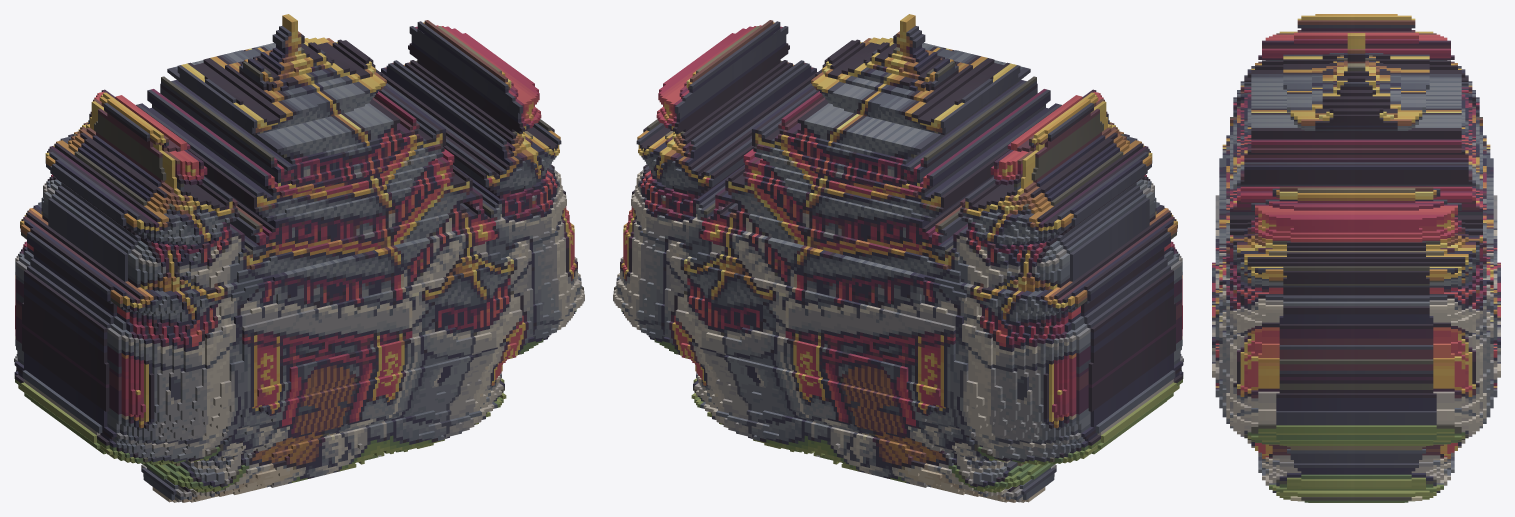
The model's file is pixel_town_center.glb.
3 views of the same model, side by side, from view 1: azimuth 30°, elevation 25°; view 2: azimuth 150°, elevation 25°; view 3: azimuth 270°, elevation 25° (orthographic). The views are drawn at different scales.
Parts seen in each view (by area): view 1: VoxelObject; view 2: VoxelObject; view 3: VoxelObject.
Boxes of the visible parts, x1,y1,x2,y2 form: VoxelObject: [14, 14, 584, 502]; VoxelObject: [613, 14, 1183, 502]; VoxelObject: [1212, 14, 1500, 502].
Bounding box in the file's own units: 10.02 × 9 × 5.48.
